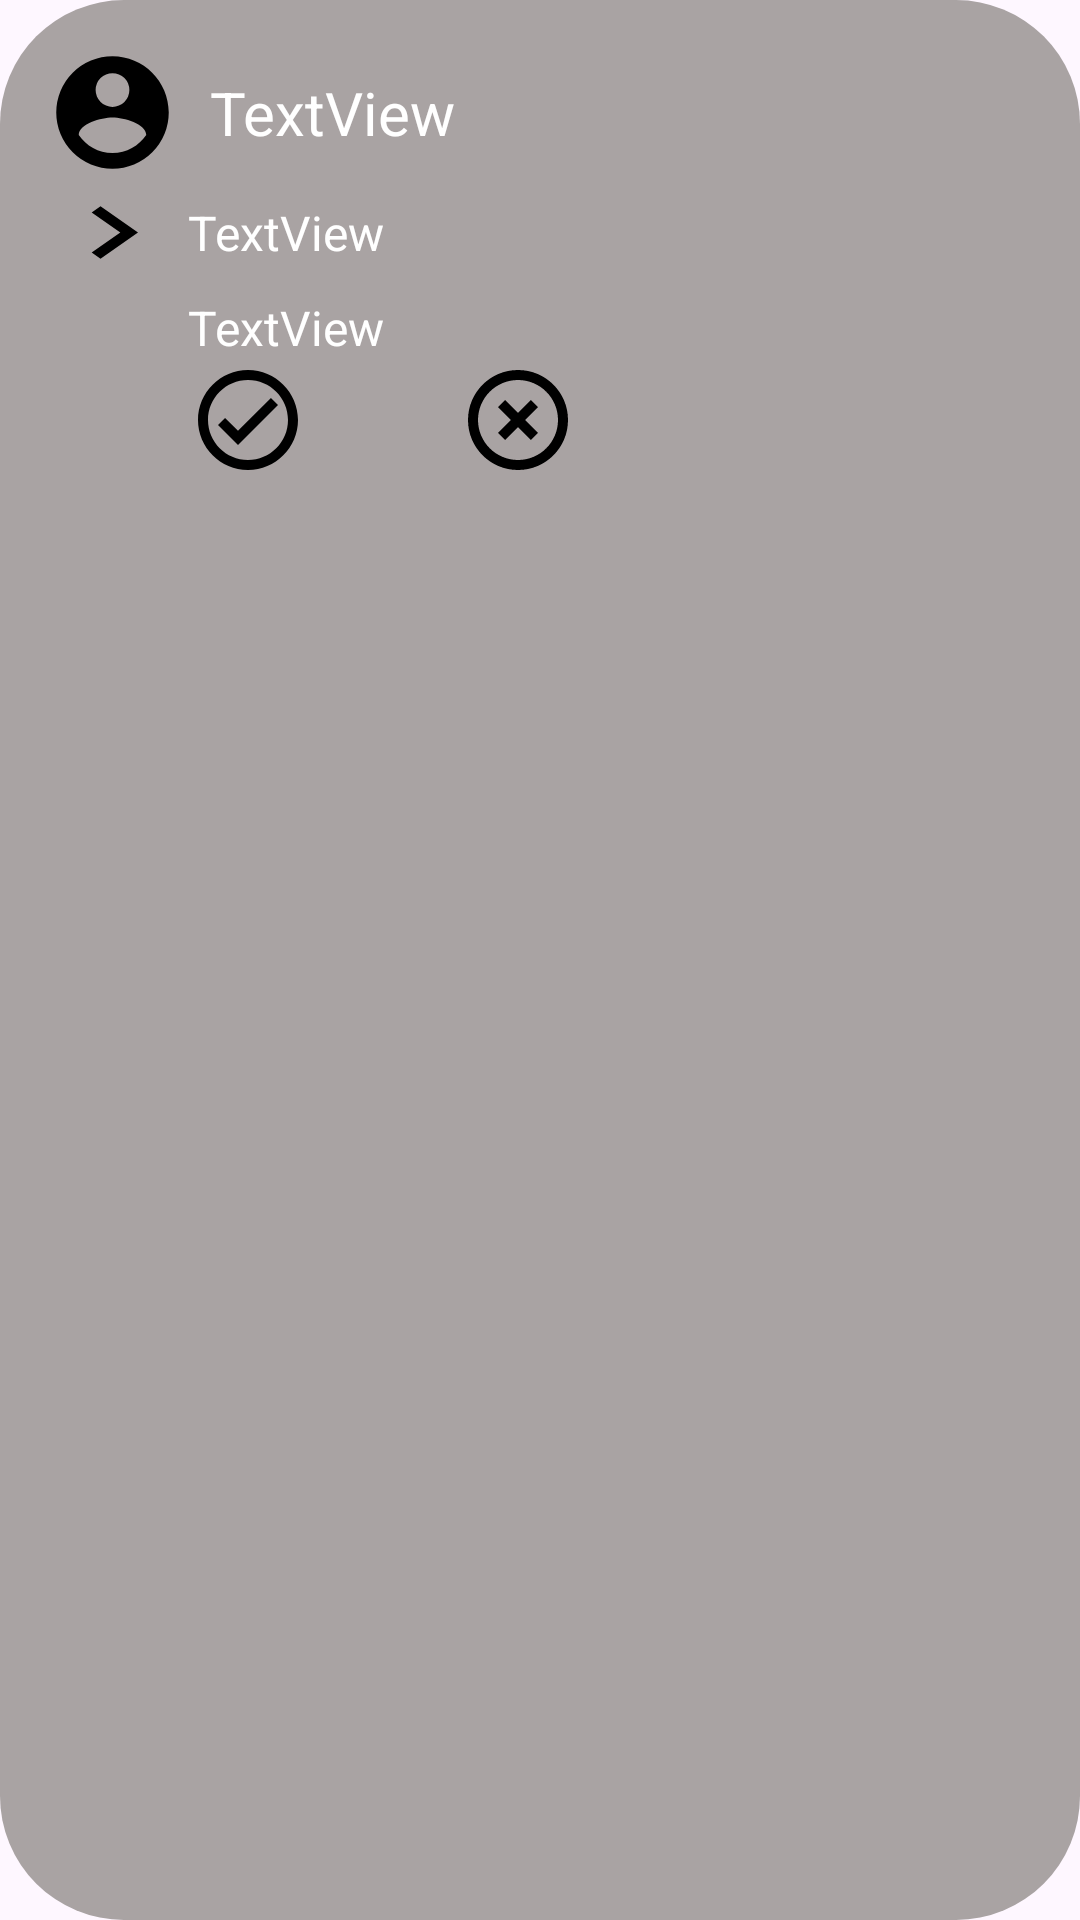

Point at icon controls on the screen. Image size 1080px×1920px, points as (x=x, y=y).
account circle: (x=112, y=112)
check circle: (x=248, y=420)
close circle: (x=518, y=420)
keyboard arrow right: (x=115, y=232)
